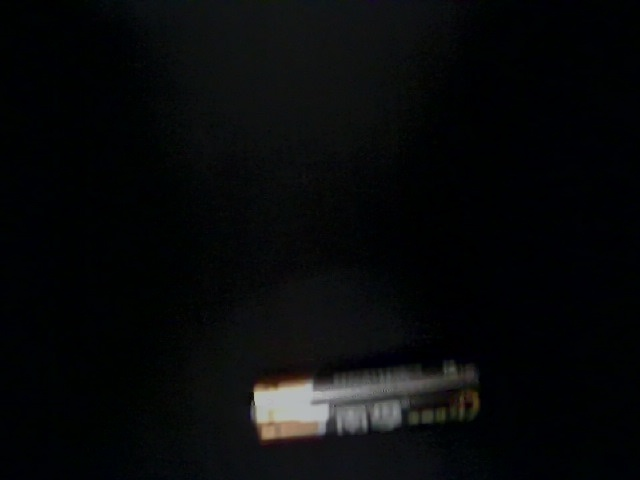QTLJ: (464, 7, 638, 201)
